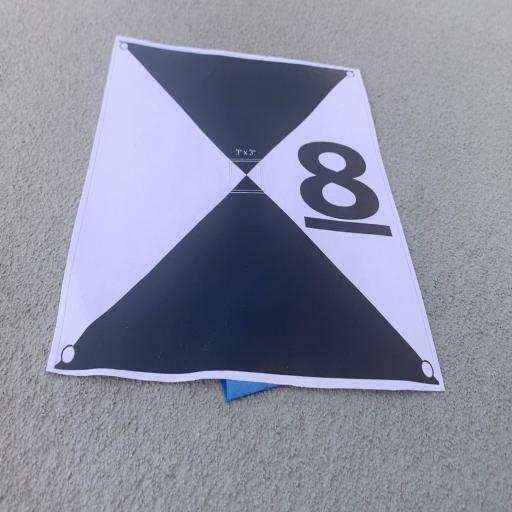target8: (45, 34, 445, 390)
